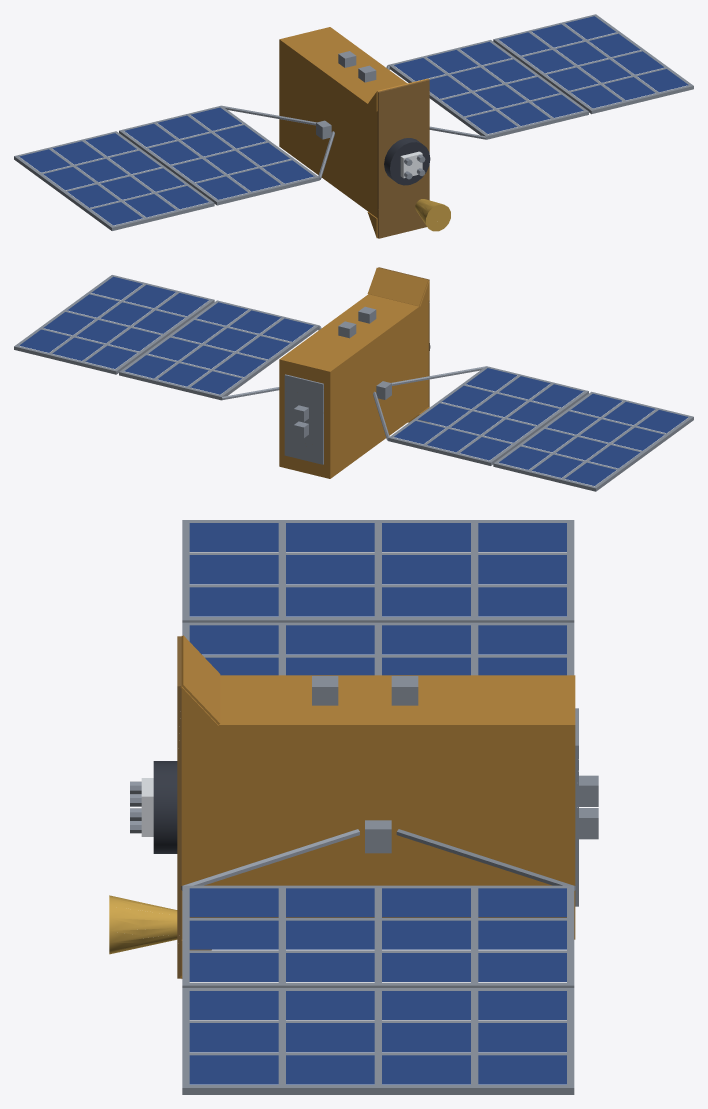
Rendered from glonass-k.glb.
The picture shows the model from 3 angles, top to bottom: view 1: azimuth 30°, elevation 25°; view 2: azimuth 150°, elevation 25°; view 3: azimuth 270°, elevation 25°; orthographic projection. The views are drawn at different scales.
Visible parts, largest first — view 1: solar-panel, foil, body; view 2: solar-panel, foil, body; view 3: solar-panel, foil, body.
Boxes of the visible parts, x1,y1,x2,y2 form: solar-panel: [19, 16, 688, 225]; foil: [279, 27, 429, 238]; body: [14, 14, 693, 231]; solar-panel: [19, 276, 688, 485]; foil: [279, 267, 429, 478]; body: [14, 275, 693, 491]; solar-panel: [189, 523, 566, 1084]; foil: [177, 635, 575, 978]; body: [109, 520, 598, 1094].
Size of the model in its own units: 9.09 by 2.2 by 3.31.
